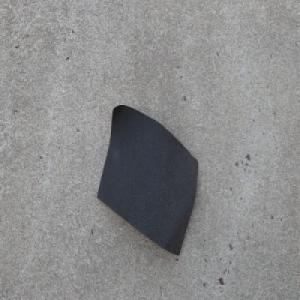PaintChip: (97, 104, 198, 254)
